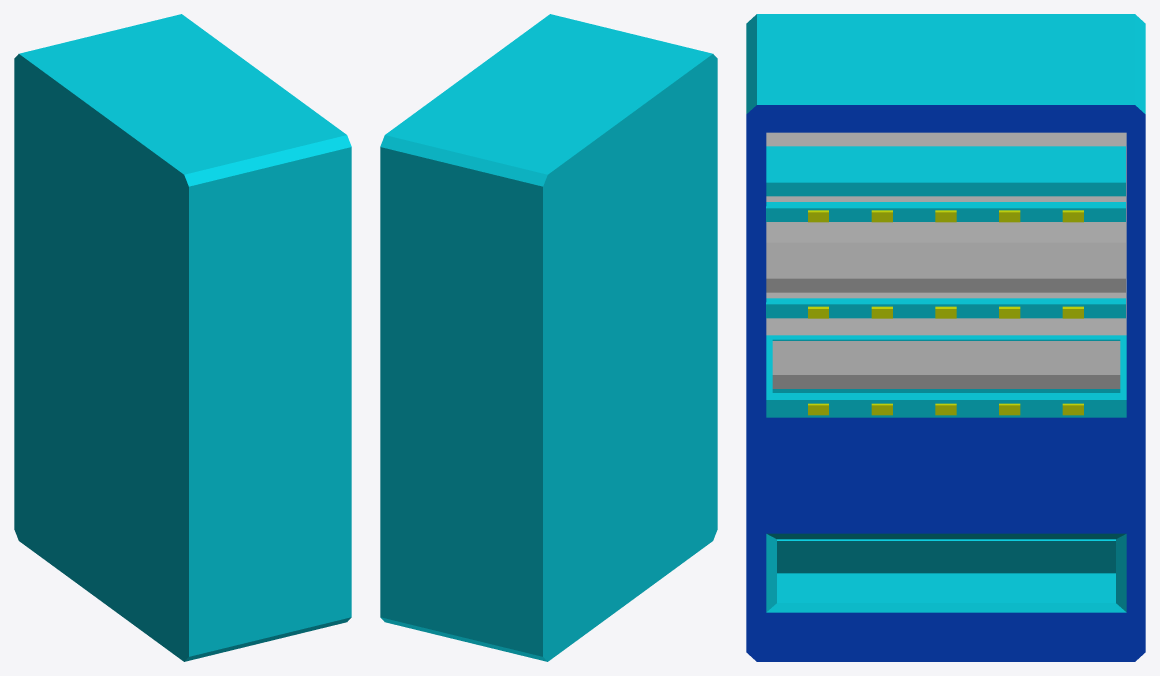
File: Máquina_Low_Poly 1.fbx
The picture shows the model from 3 angles, left to right: view 1: azimuth 30°, elevation 25°; view 2: azimuth 150°, elevation 25°; view 3: azimuth 270°, elevation 25°; orthographic projection. The views are drawn at different scales.
Parts seen in each view (by area): view 1: Cube; view 2: Cube; view 3: Cube, Cube.002, Cube.001.
Boxes of the visible parts, left/top/right/bottom form: Cube: left=14, top=14, right=351, bottom=661; Cube: left=380, top=14, right=717, bottom=661; Cube: left=746, top=14, right=1145, bottom=661; Cube.002: left=777, top=539, right=1115, bottom=573; Cube.001: left=808, top=210, right=1083, bottom=415.
Bounding box in the file's own units: 73.24 × 200 × 130.
